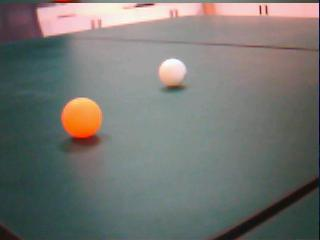oball: (61, 97, 102, 138)
